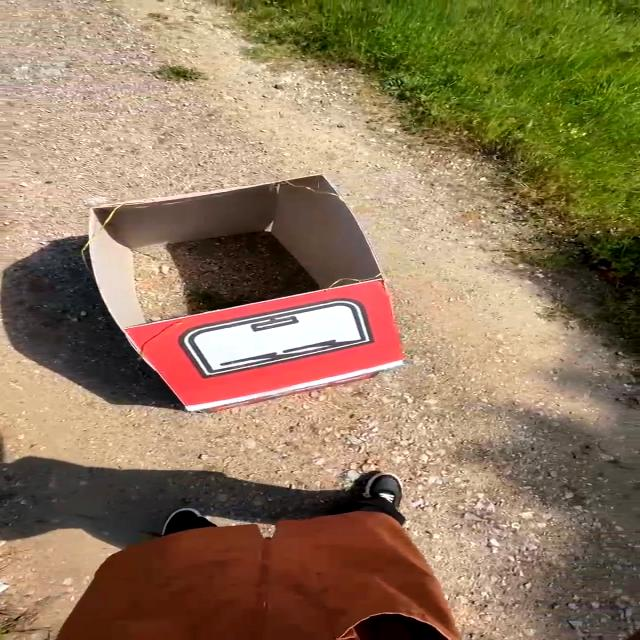red_car: (0, 143, 439, 433)
